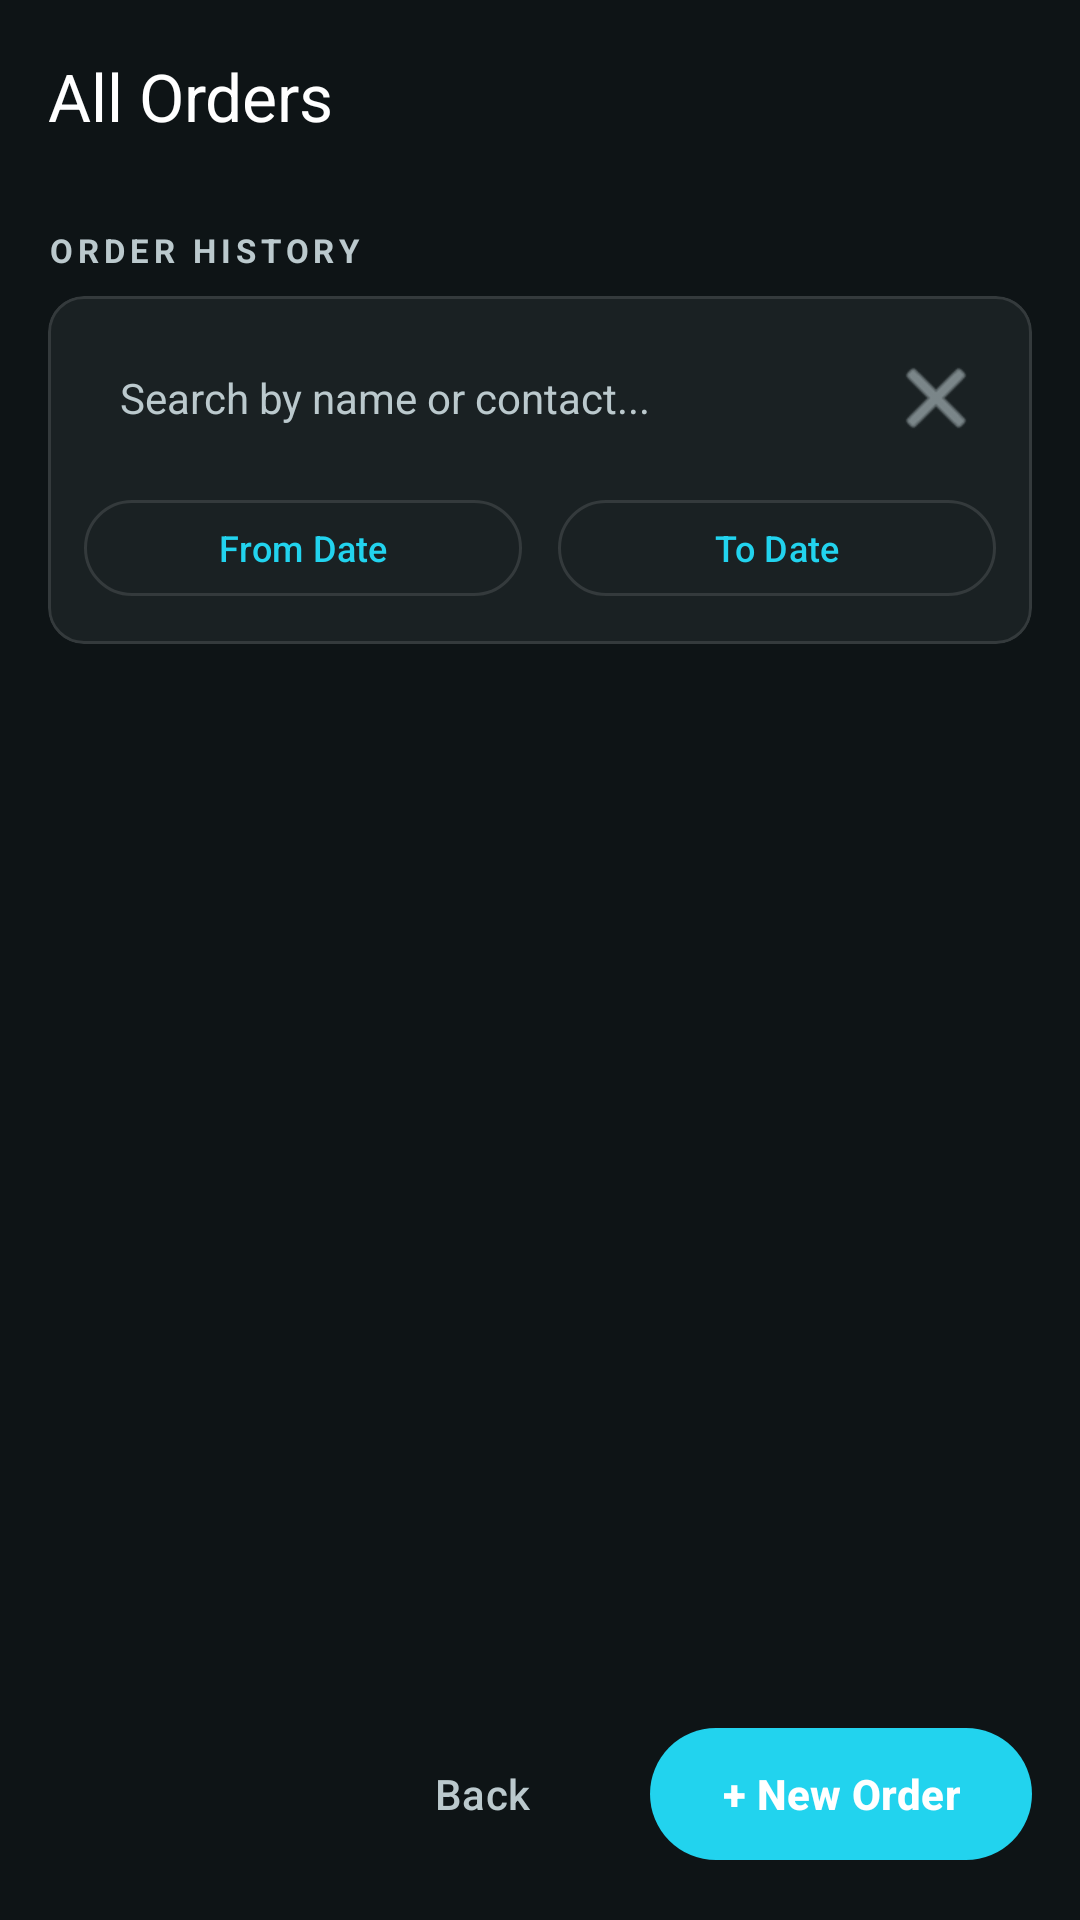

Point at icon controls on the screen. Image size 1080×1920, points as [x,y].
Clear filters: [936,398]
